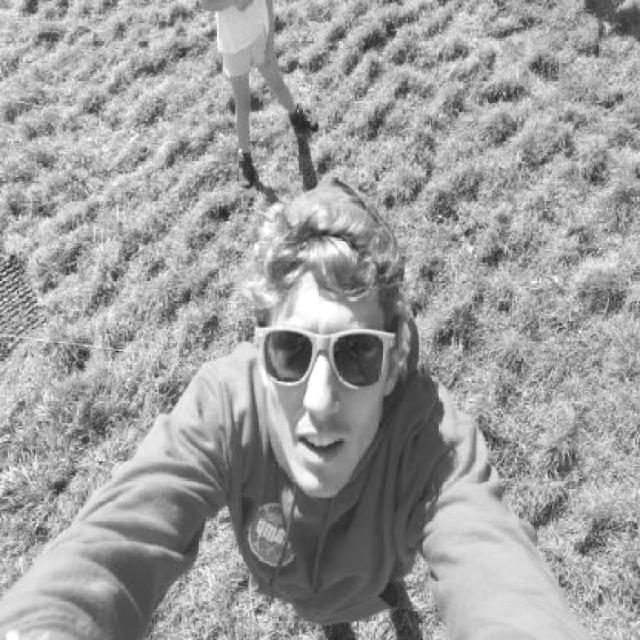face_nomask: (266, 320, 382, 466)
glasses: (255, 318, 433, 410)
head_nohelmet: (250, 198, 408, 310)
person: (147, 187, 510, 630)
